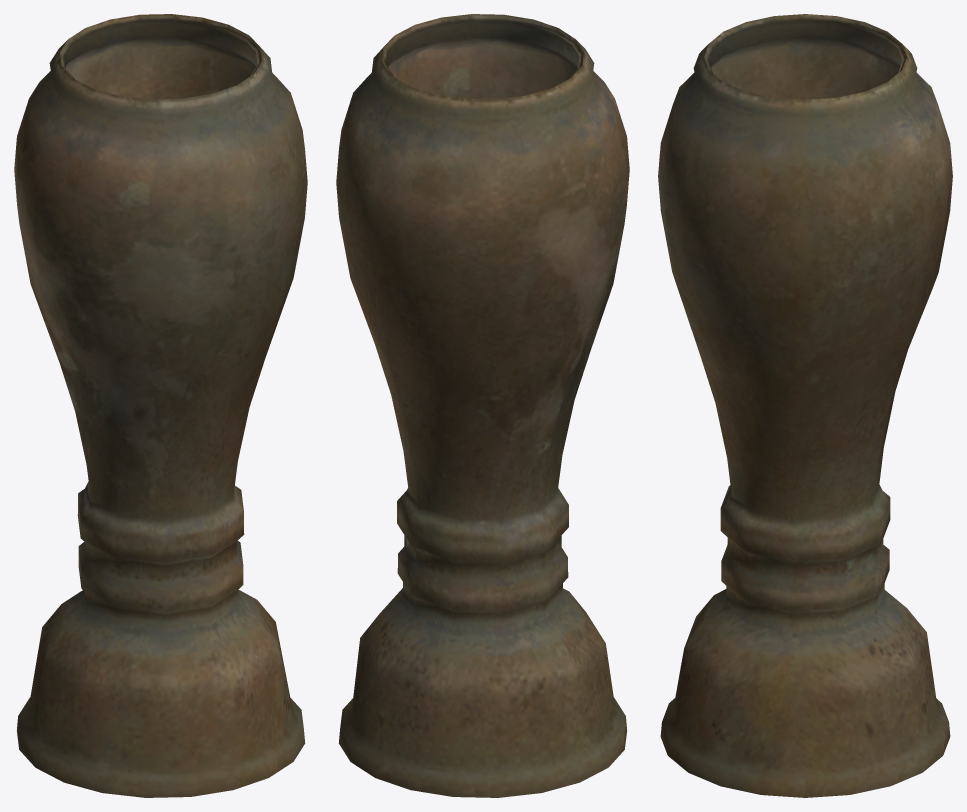
The model's file is 044_pot.fbx.
3 views of the same model, side by side, from view 1: azimuth 30°, elevation 25°; view 2: azimuth 150°, elevation 25°; view 3: azimuth 270°, elevation 25° (orthographic).
Parts seen in each view (by area): view 1: LOD_1_Group_0_Sub_1__sm32_044_Pot01A_D_Mat; view 2: LOD_1_Group_0_Sub_1__sm32_044_Pot01A_D_Mat; view 3: LOD_1_Group_0_Sub_1__sm32_044_Pot01A_D_Mat.
Part boxes in pixels (bbox=[...]): LOD_1_Group_0_Sub_1__sm32_044_Pot01A_D_Mat: bbox=[14, 14, 307, 797]; LOD_1_Group_0_Sub_1__sm32_044_Pot01A_D_Mat: bbox=[336, 14, 629, 797]; LOD_1_Group_0_Sub_1__sm32_044_Pot01A_D_Mat: bbox=[658, 14, 952, 797].
Bounding box in the file's own units: 0.1007 × 0.2561 × 0.1007.
